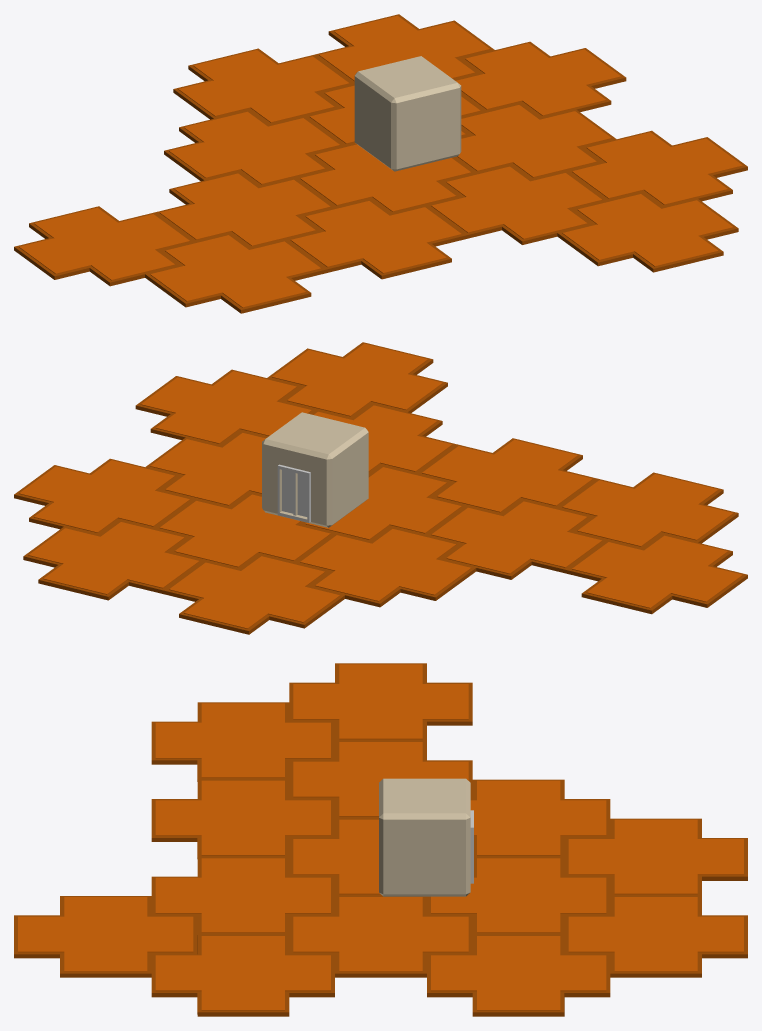
The model's file is Tile.gltf.
3 views of the same model, one above another, from view 1: azimuth 30°, elevation 25°; view 2: azimuth 150°, elevation 25°; view 3: azimuth 270°, elevation 25° (orthographic). The views are drawn at different scales.
Parts seen in each view (by area): view 1: Cube.008, Cube.012, Cube.007, Cube.005, Cube.010, Cube.004, Cube.006, Cube.009, Cube.013, Cube.002, Cube.011, Cube.001 (+3 smaller); view 2: Cube.008, Cube.010, Cube.013, Cube.014, Cube.009, Cube.011, Cube.002, Cube.007, Cube.012, Cube.005, Cube.006, Cube.003 (+3 smaller); view 3: Cube.002, Cube.006, Cube.012, Cube.014, Cube.001, Cube.008, Cube.007, Cube.005, Cube.010, Cube.013, Cube.004, Cube.003 (+3 smaller).
Part boxes in pixels (bbox=[...]): Cube.008: bbox=[354, 56, 461, 171]; Cube.012: bbox=[557, 192, 738, 272]; Cube.007: bbox=[145, 233, 326, 313]; Cube.005: bbox=[286, 199, 466, 279]; Cube.010: bbox=[14, 206, 194, 286]; Cube.004: bbox=[426, 165, 606, 244]; Cube.006: bbox=[567, 130, 747, 206]; Cube.009: bbox=[164, 110, 344, 186]; Cube.013: bbox=[173, 48, 353, 124]; Cube.002: bbox=[454, 41, 626, 117]; Cube.011: bbox=[155, 172, 335, 248]; Cube.001: bbox=[454, 103, 616, 179]; Cube.008: bbox=[262, 412, 368, 527]; Cube.010: bbox=[567, 534, 747, 614]; Cube.013: bbox=[164, 554, 344, 634]; Cube.014: bbox=[23, 520, 203, 600]; Cube.009: bbox=[295, 527, 476, 607]; Cube.011: bbox=[426, 500, 606, 579]; Cube.002: bbox=[14, 458, 194, 534]; Cube.007: bbox=[557, 472, 738, 548]; Cube.012: bbox=[267, 342, 447, 418]; Cube.005: bbox=[417, 438, 597, 514]; Cube.006: bbox=[135, 369, 316, 445]; Cube.003: bbox=[155, 493, 335, 569]; Cube.002: bbox=[427, 935, 610, 1016]; Cube.006: bbox=[151, 935, 334, 1016]; Cube.012: bbox=[14, 896, 197, 977]; Cube.014: bbox=[564, 896, 747, 977]; Cube.001: bbox=[289, 896, 472, 977]; Cube.008: bbox=[379, 778, 473, 896]; Cube.007: bbox=[151, 702, 334, 781]; Cube.005: bbox=[151, 779, 334, 858]; Cube.010: bbox=[289, 663, 472, 740]; Cube.013: bbox=[564, 818, 747, 895]; Cube.004: bbox=[151, 857, 334, 936]; Cube.003: bbox=[427, 857, 610, 934].
Size of the model in its own units: 0.18 by 0.0214 by 0.16.
